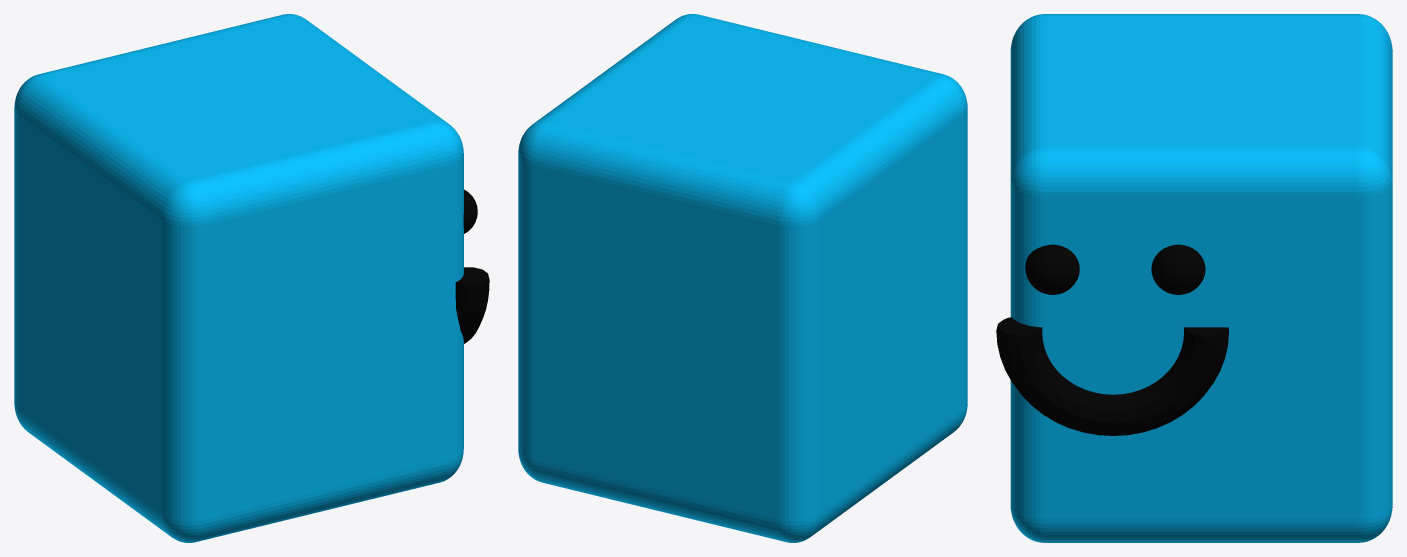
Rendered from Chracter_LightBlue.glb.
3 views of the same model, side by side, from view 1: azimuth 30°, elevation 25°; view 2: azimuth 150°, elevation 25°; view 3: azimuth 270°, elevation 25° (orthographic). The views are drawn at different scales.
Visible parts, largest first — view 1: Chracter_LightBlue; view 2: Chracter_LightBlue; view 3: Chracter_LightBlue.
Boxes of the visible parts, bbox=[...] form: Chracter_LightBlue: bbox=[14, 14, 489, 542]; Chracter_LightBlue: bbox=[518, 14, 967, 542]; Chracter_LightBlue: bbox=[996, 14, 1392, 542].
Size of the model in its own units: 1.84 by 2 by 1.83.
